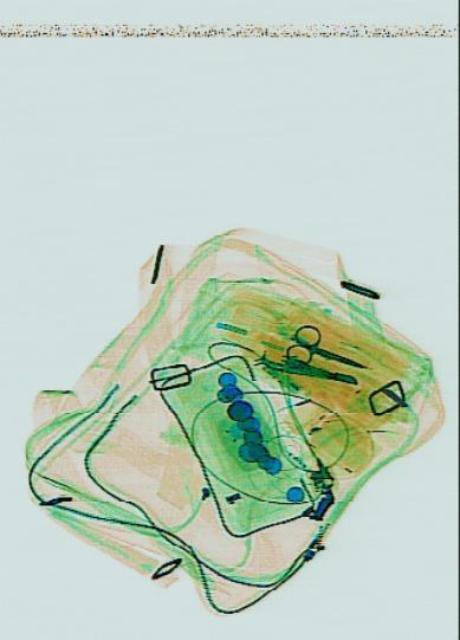Scissors: (281, 316, 368, 388)
